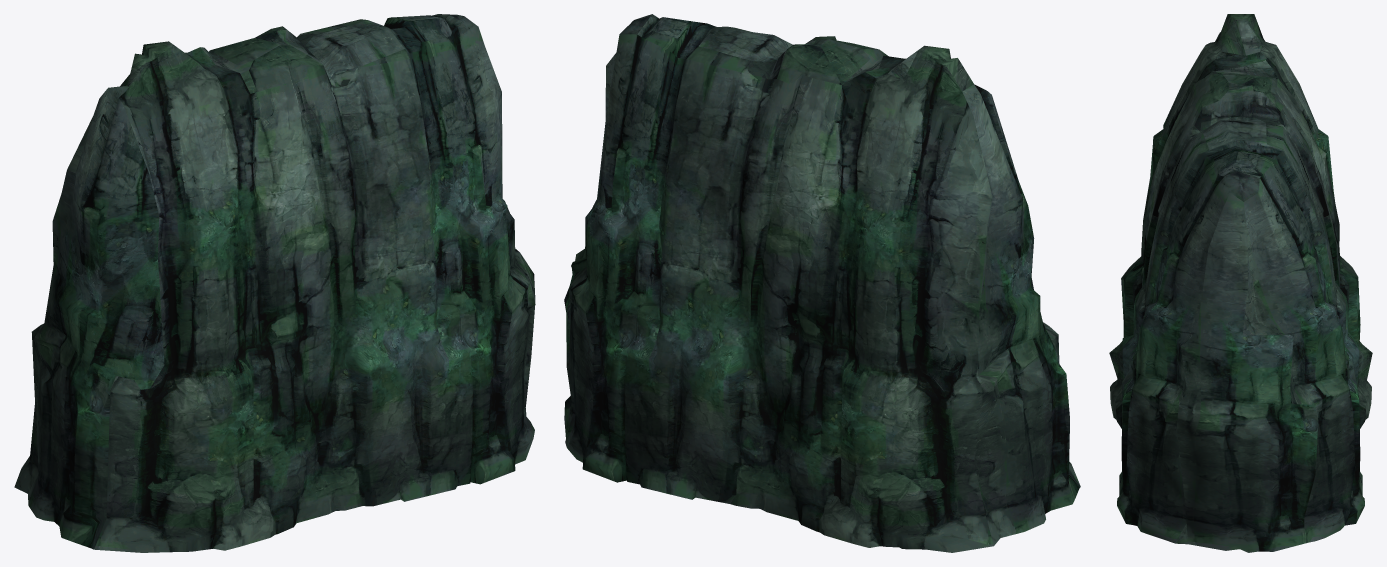
The model's file is dro_env_cliff_wall_02.glb.
3 views of the same model, side by side, from view 1: azimuth 30°, elevation 25°; view 2: azimuth 150°, elevation 25°; view 3: azimuth 270°, elevation 25° (orthographic). The views are drawn at different scales.
Visible parts, largest first — view 1: objdro_env_cliff_wall_02; view 2: objdro_env_cliff_wall_02; view 3: objdro_env_cliff_wall_02.
Part boxes in pixels (x1,y1,x2,y2): objdro_env_cliff_wall_02: (14, 14, 535, 552); objdro_env_cliff_wall_02: (564, 14, 1080, 552); objdro_env_cliff_wall_02: (1109, 14, 1372, 552).
Bounding box in the file's own units: 8.28 × 7.32 × 4.52.
Materials: 1 (1 with a texture image).
